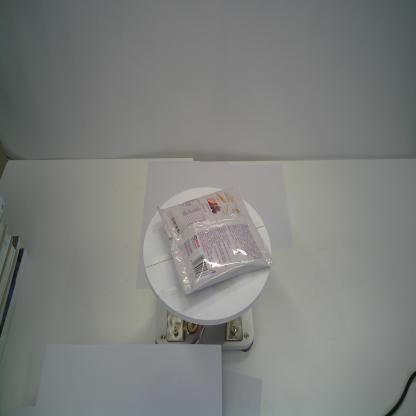Instant Drink: (157, 185, 275, 298)
